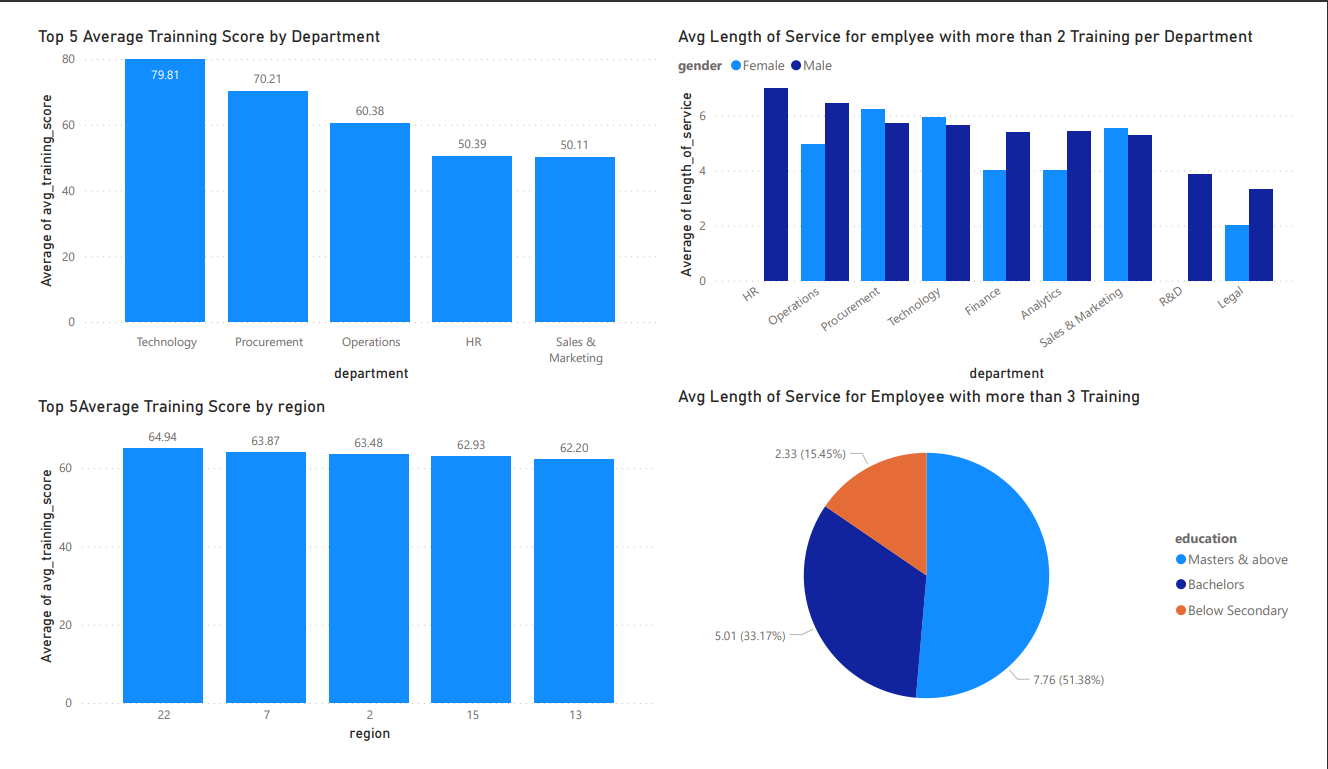

The dashboard page shown, as its layout file describes it:
{"tool":"powerbi","page":{"name":"Performance: Training Score","canvas":[1280,720],"ordinal":2},"visuals":[{"type":"columnChart","title":"Top 5 Average Trainning Score by Department","fields":{"Category":["cleaned_dataset.department"],"Y":["Avg(cleaned_dataset.avg_training_score)"]},"box":[9.7,0,630.3,359.9],"z":0},{"type":"columnChart","title":"Top 5Average Training Score by region","fields":{"Category":["cleaned_dataset.region"],"Y":["Avg(cleaned_dataset.avg_training_score)"]},"box":[9.7,369.6,630.3,350.2],"z":1000},{"type":"clusteredColumnChart","title":"Avg Length of Service for emplyee with more than 2 Training per Department","fields":{"Category":["cleaned_dataset.department"],"Y":["Avg(cleaned_dataset.length_of_service)"],"Series":["cleaned_dataset.gender"]},"box":[650,0,630,360],"z":2000},{"type":"pieChart","title":"Avg Length of Service for Employee with more than 3 Training ","fields":{"Category":["cleaned_dataset.education"],"Y":["Avg(cleaned_dataset.length_of_service)"]},"box":[649.7,359.9,630.3,359.9],"z":3000}]}

Visuals, with their boxes in screenshot pixels (x1, y1, x2, y2), scaled from the page's 1280x720 canvas onto the 1328x769 screenshot:
"Top 5 Average Trainning Score by Department" columnChart: l=10, t=0, r=664, b=384
"Top 5Average Training Score by region" columnChart: l=10, t=395, r=664, b=768
"Avg Length of Service for emplyee with more than 2 Training per Department" clusteredColumnChart: l=674, t=0, r=1327, b=384
"Avg Length of Service for Employee with more than 3 Training " pieChart: l=674, t=384, r=1327, b=768
